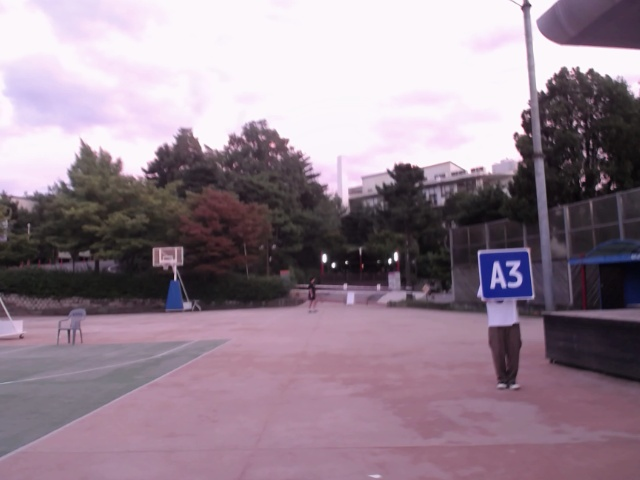delivery_a3: (479, 249, 534, 300)
